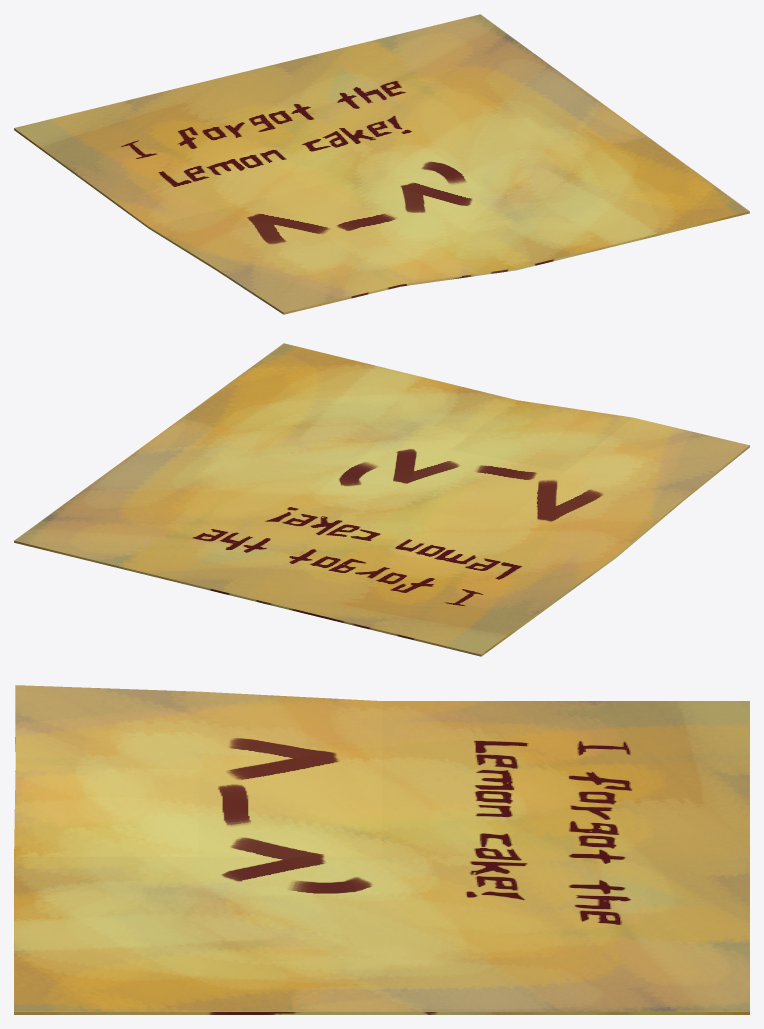
The model's file is LO_notes_cake.glb.
The picture shows the model from 3 angles, top to bottom: view 1: azimuth 30°, elevation 25°; view 2: azimuth 150°, elevation 25°; view 3: azimuth 270°, elevation 25°; orthographic projection. The views are drawn at different scales.
Visible parts, largest first — view 1: Plane.004; view 2: Plane.004; view 3: Plane.004.
Boxes of the visible parts, <box> form: Plane.004: <box>14,14,749,314</box>; Plane.004: <box>14,343,749,656</box>; Plane.004: <box>14,685,749,1014</box>.
Bounding box in the file's own units: 0.1099 × 0.00316 × 0.1099.
1 material, 1 textured.
